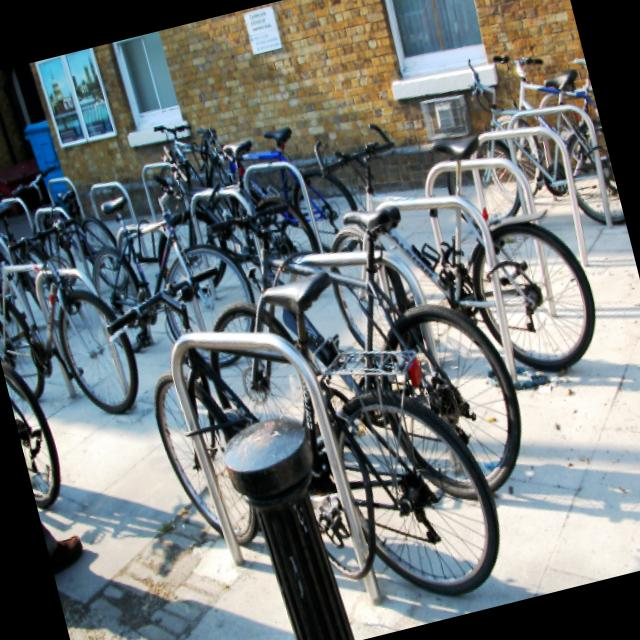bike: (96, 211, 514, 640), (177, 156, 539, 552), (297, 82, 610, 420), (418, 34, 626, 262), (0, 197, 150, 438)
